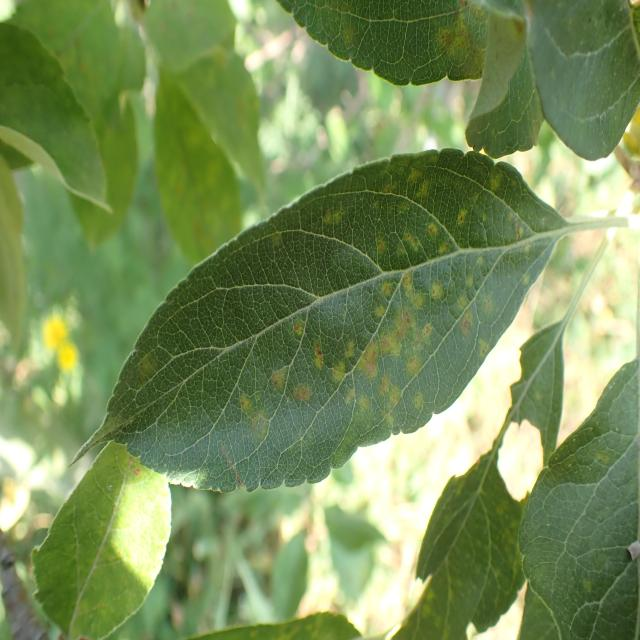scab: (145, 145, 552, 432), (325, 0, 550, 74)
